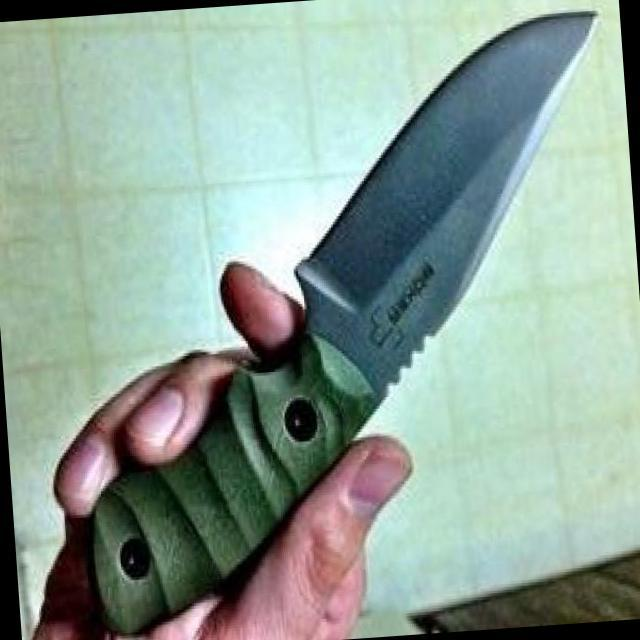Knife: (177, 0, 638, 529)
